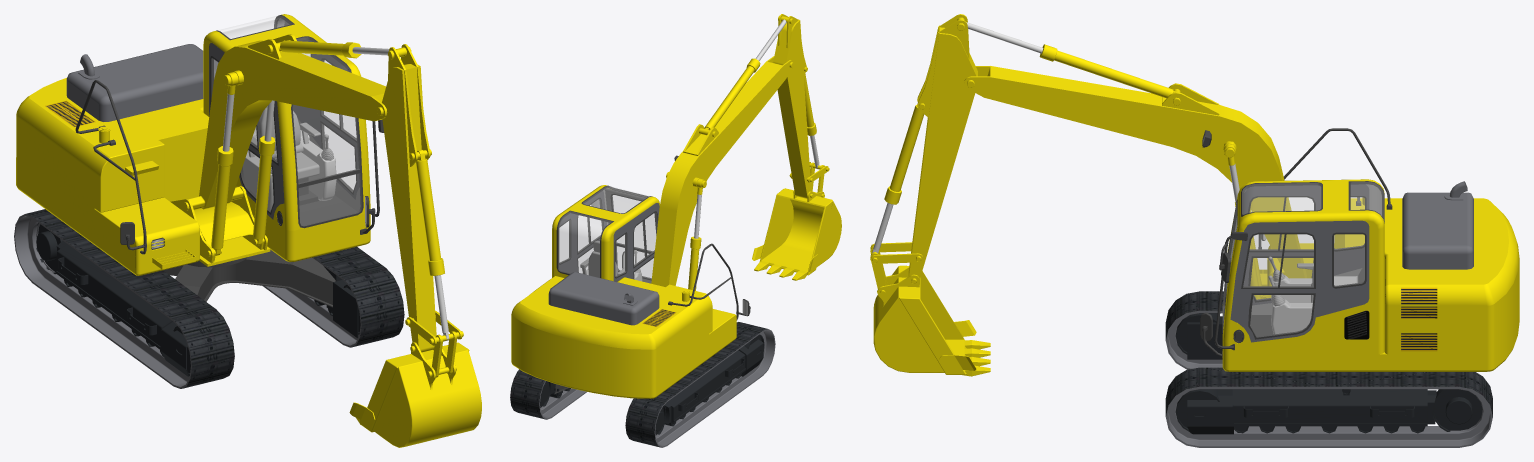
Rendered from 095-01 油圧ショベル.glb.
3 renders of one model, left to right at view 1: azimuth 30°, elevation 25°; view 2: azimuth 150°, elevation 25°; view 3: azimuth 270°, elevation 25°, orthographic. The views are drawn at different scales.
Parts seen in each view (by area): view 1: EditableMesh; view 2: EditableMesh; view 3: EditableMesh.
Part boxes in pixels (x1,y1,x2,y2): EditableMesh: [14, 14, 481, 447]; EditableMesh: [510, 14, 841, 447]; EditableMesh: [870, 14, 1519, 447].
Size of the model in its own units: 2.98 by 4.64 by 7.2.
14 materials, 6 textured.
